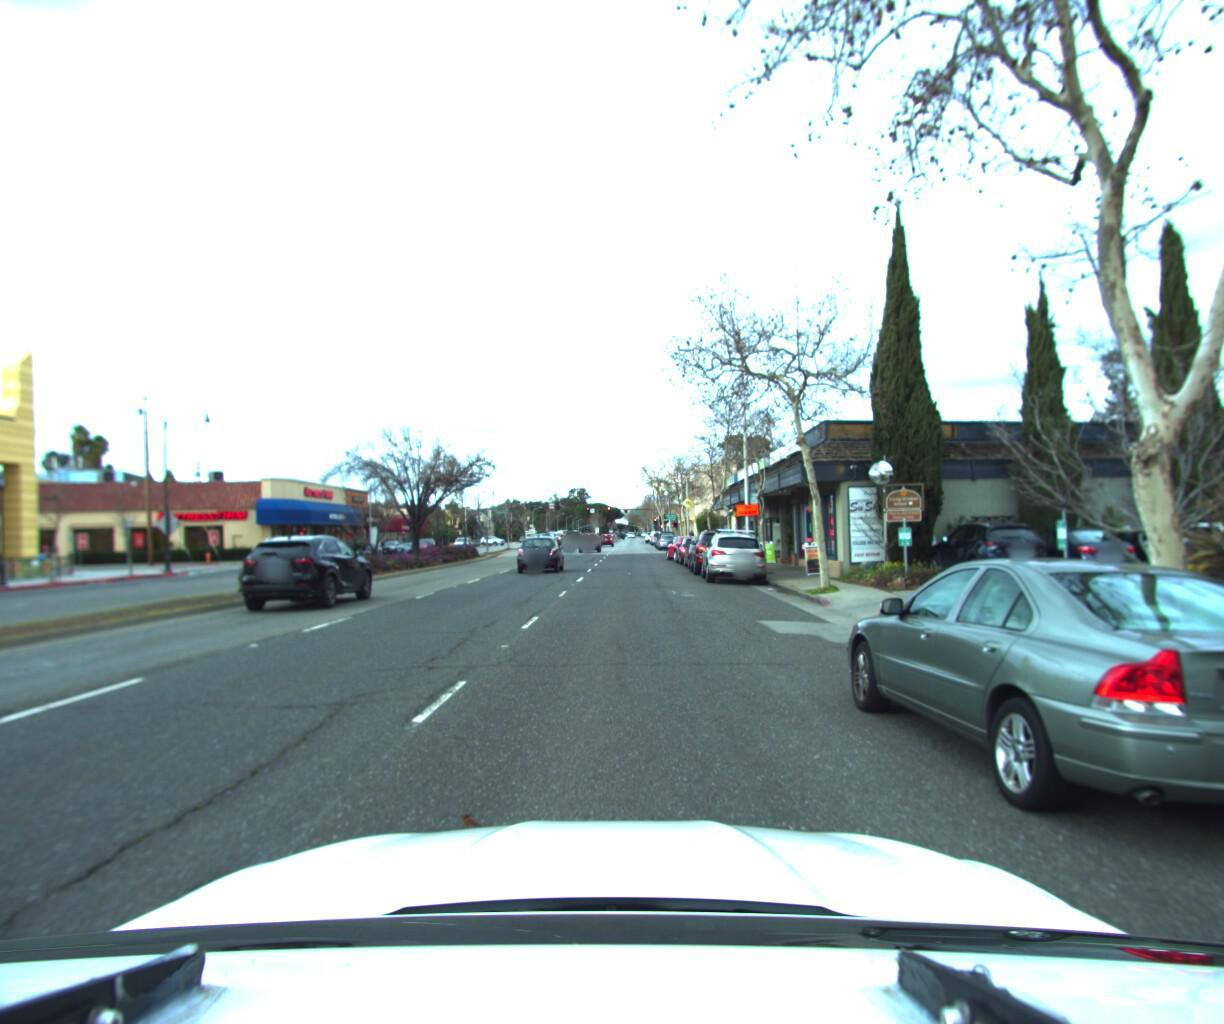car: (822, 542, 1224, 884), (230, 532, 383, 610), (922, 505, 1054, 581), (999, 518, 1146, 577), (697, 523, 768, 582), (688, 524, 745, 573), (514, 532, 568, 574), (679, 530, 726, 567), (664, 531, 708, 559), (672, 530, 710, 561), (575, 528, 599, 549), (652, 528, 677, 547)
